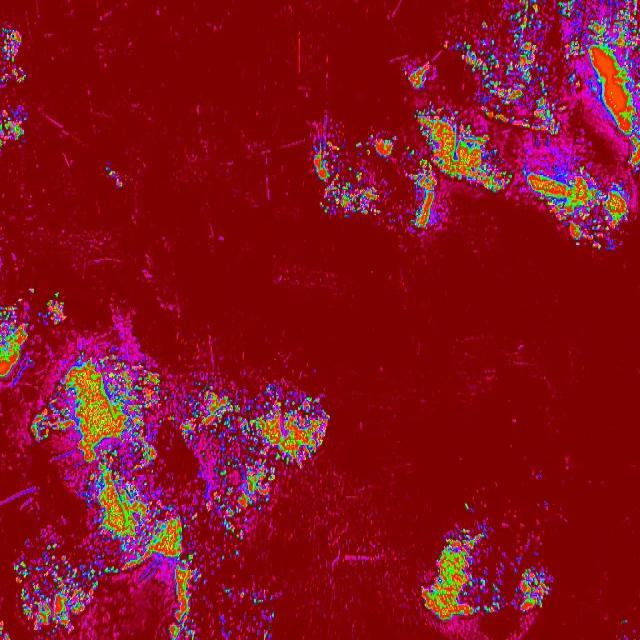fire: (0, 355, 276, 640), (409, 0, 640, 241), (418, 520, 554, 620), (313, 116, 408, 230), (276, 382, 336, 470), (0, 294, 71, 354), (0, 19, 30, 155)
